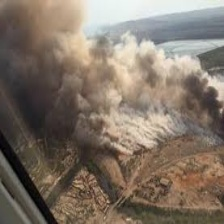smoke: (2, 1, 224, 153)
